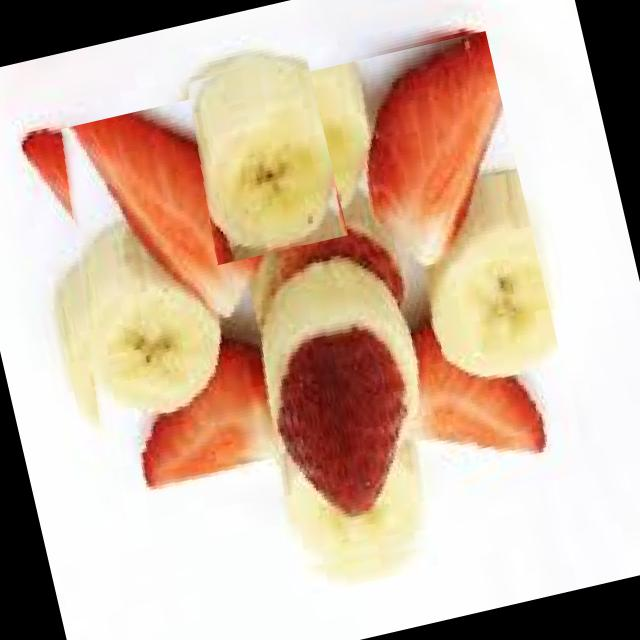Organic: (16, 30, 596, 625), (172, 47, 346, 264)
